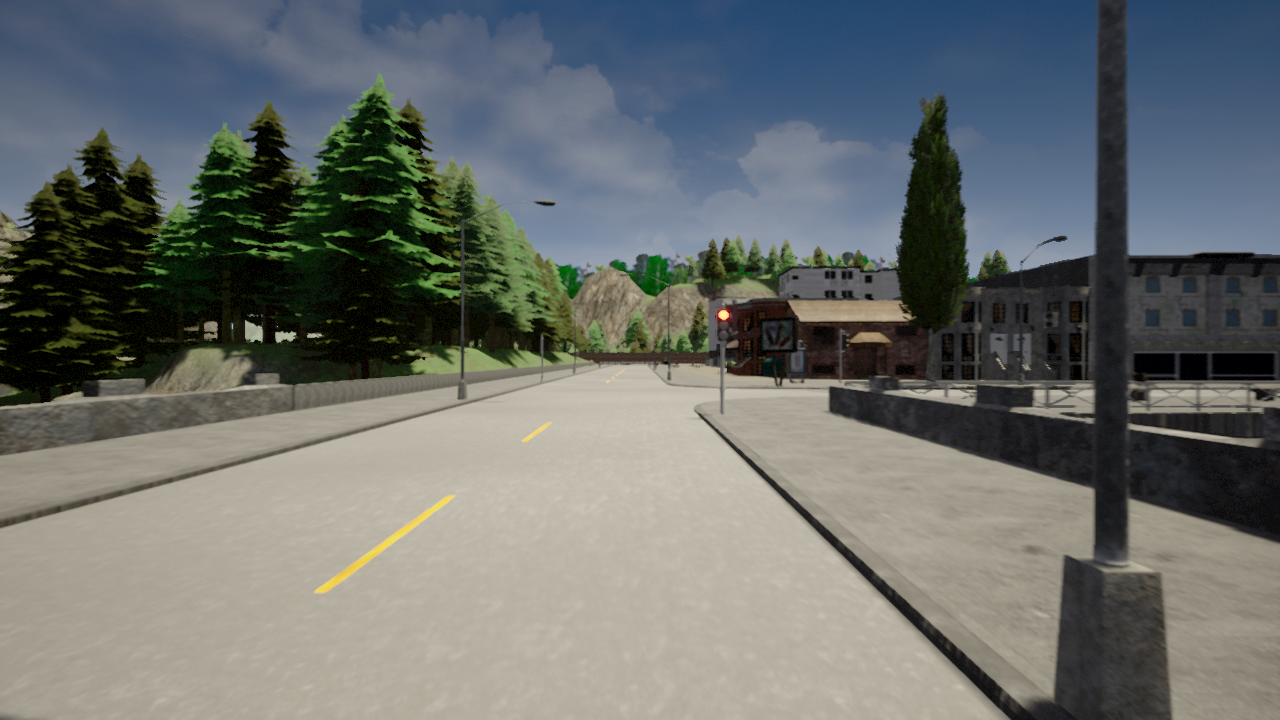red: (716, 307, 731, 341)
